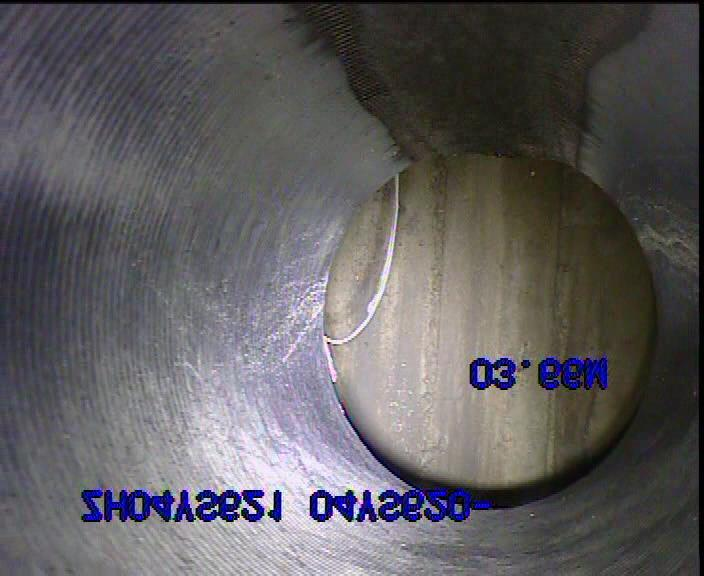JKCL: (310, 162, 412, 388)
